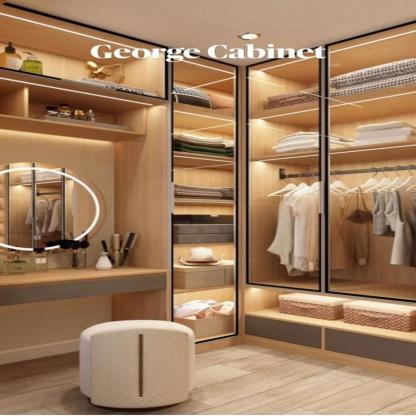Transparent Closet: (0, 4, 409, 366)
